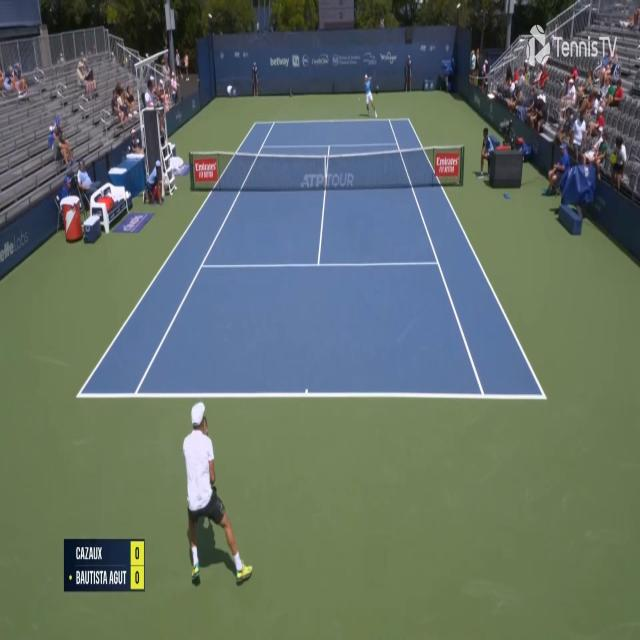tennis-player: (183, 398, 255, 592), (362, 73, 379, 118)
